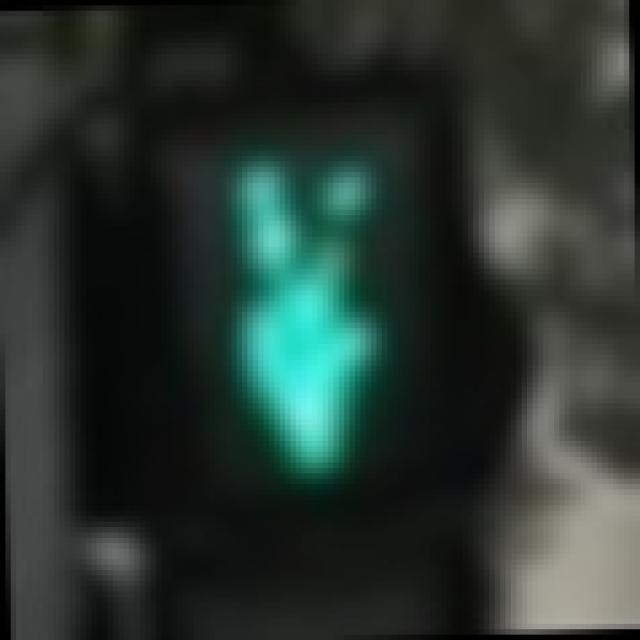green_light: (134, 91, 490, 532)
